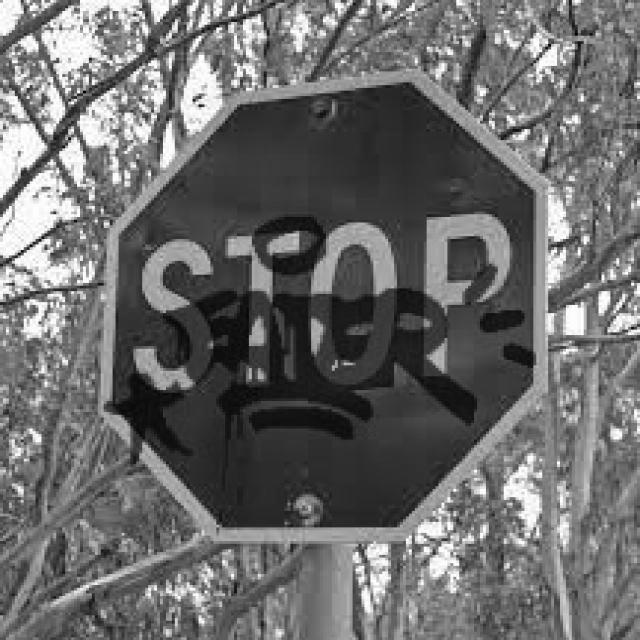stop: (98, 68, 550, 544)
